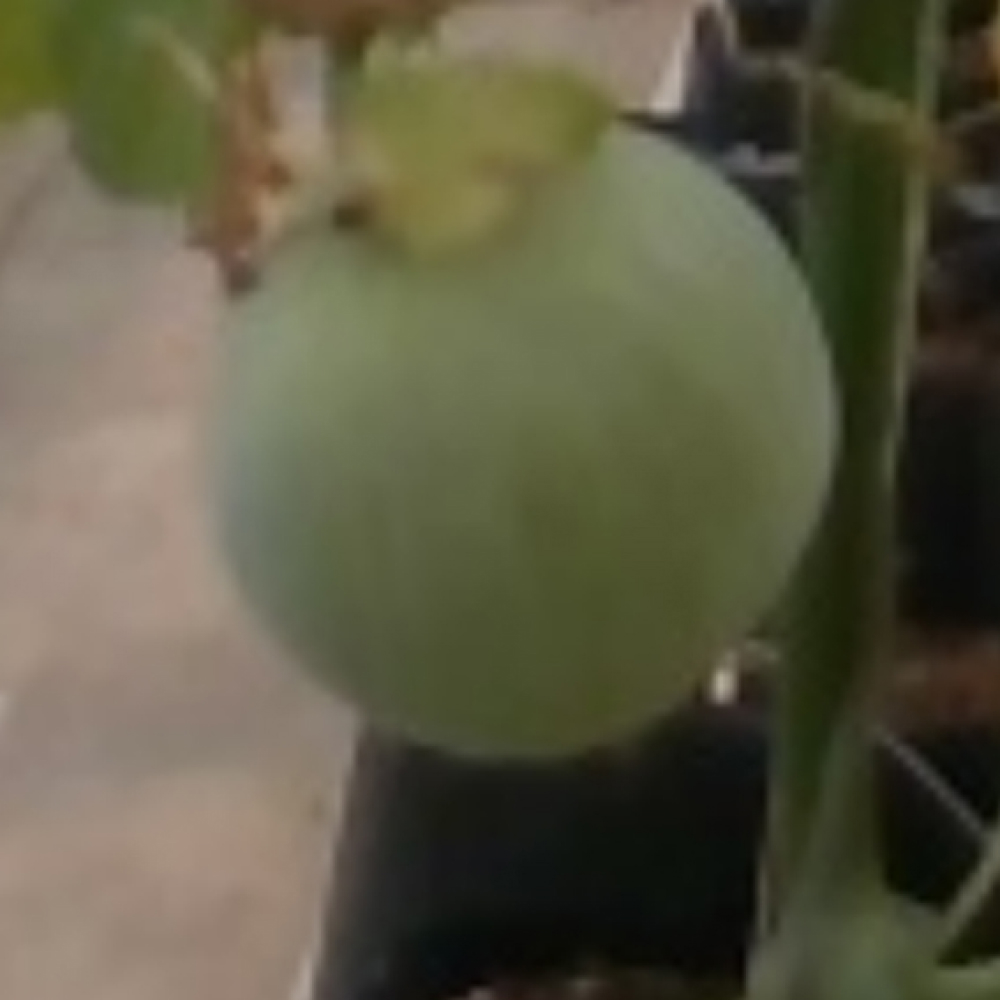melon: (198, 110, 849, 767)
